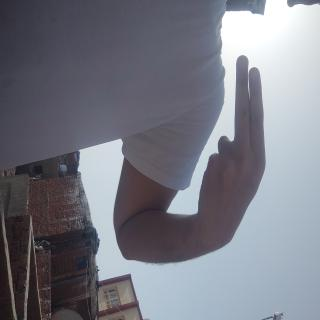AYN: (37, 65, 185, 168)
